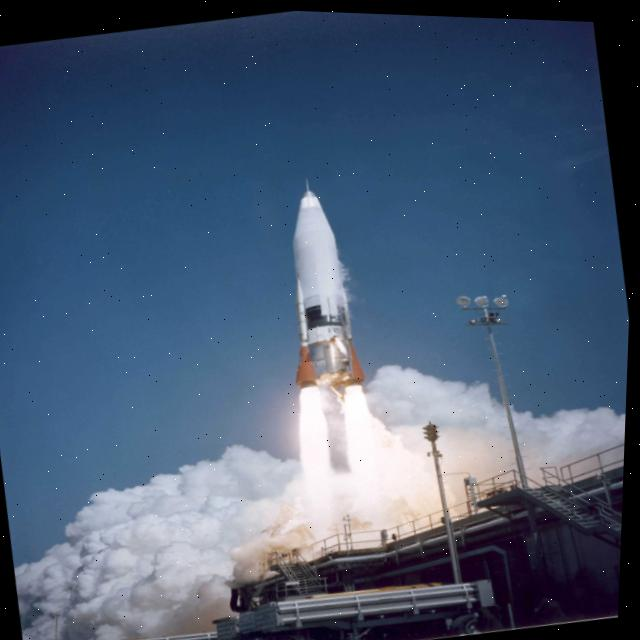missile: (256, 168, 425, 430)
